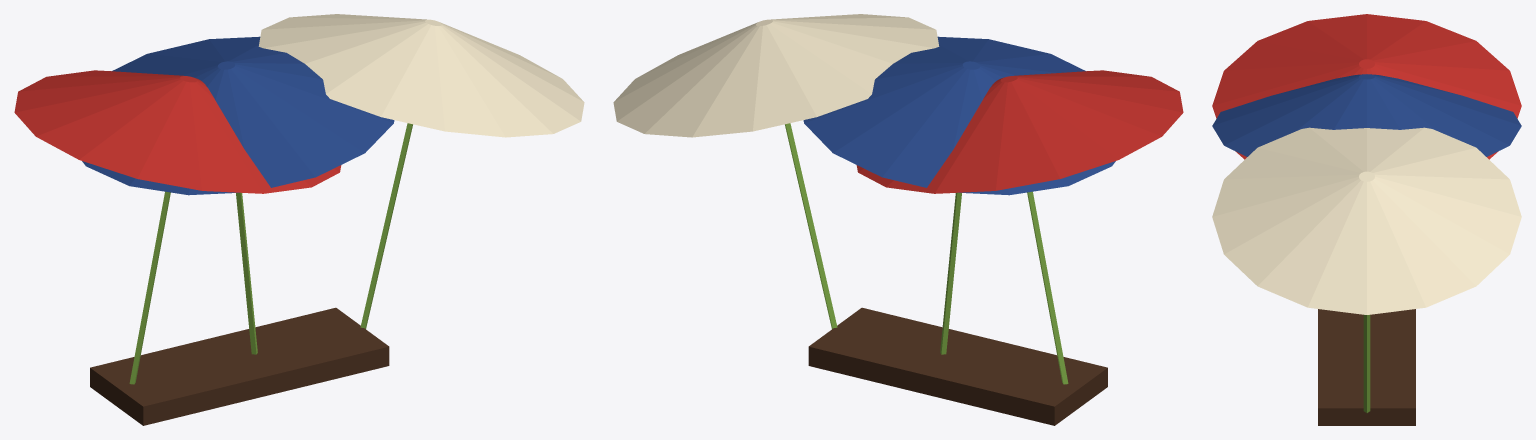
Rendered from wagasa.glb.
3 renders of one model, left to right at view 1: azimuth 30°, elevation 25°; view 2: azimuth 150°, elevation 25°; view 3: azimuth 270°, elevation 25°, orthographic. The views are drawn at different scales.
Parts seen in each view (by area): view 1: wagasa; view 2: wagasa; view 3: wagasa.
Boxes of the visible parts, bbox=[...] form: wagasa: bbox=[14, 14, 584, 425]; wagasa: bbox=[613, 14, 1183, 425]; wagasa: bbox=[1212, 14, 1521, 425].
Bounding box in the file's own units: 3.43 × 1.96 × 1.9.
